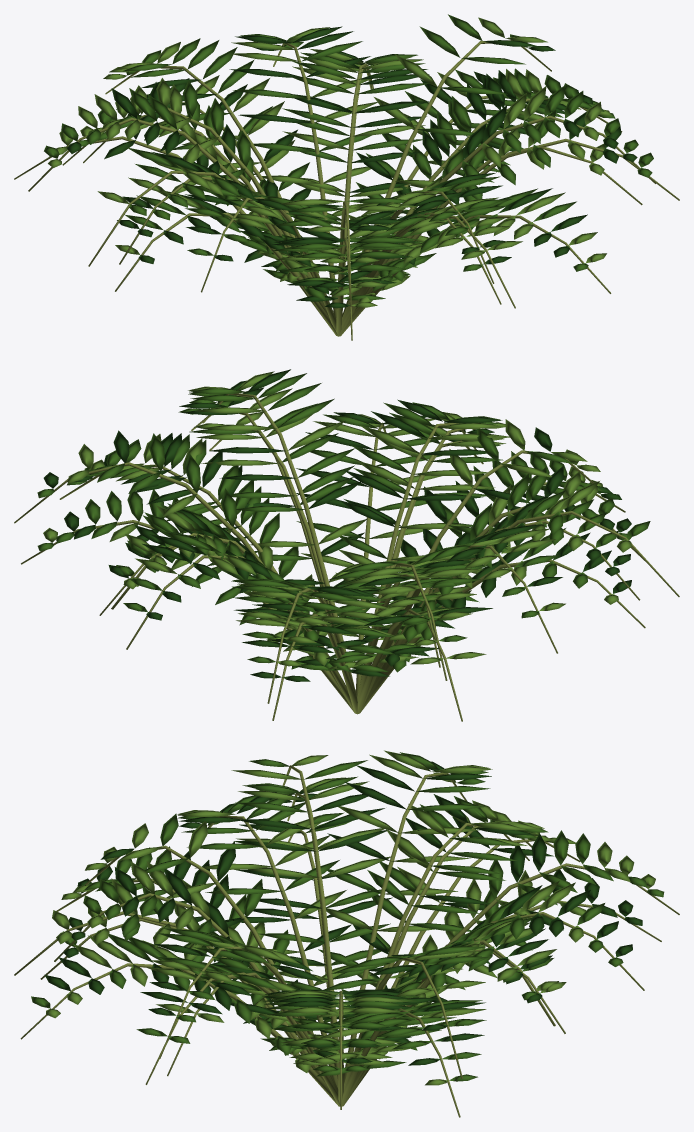
Rendered from MV_Fern_Clump.fbx.
3 views of the same model, one above another, from view 1: azimuth 30°, elevation 25°; view 2: azimuth 150°, elevation 25°; view 3: azimuth 270°, elevation 25° (orthographic). The views are drawn at different scales.
Visible parts, largest first — view 1: LOD0_Mesh, LOD1_Mesh, LOD2_Mesh; view 2: LOD0_Mesh, LOD1_Mesh, LOD2_Mesh; view 3: LOD0_Mesh, LOD1_Mesh, LOD2_Mesh.
Part boxes in pixels (left/top/right/bottom): LOD0_Mesh: left=28, top=26, right=655, bottom=340; LOD1_Mesh: left=83, top=14, right=679, bottom=335; LOD2_Mesh: left=14, top=56, right=642, bottom=334; LOD0_Mesh: left=21, top=369, right=645, bottom=713; LOD1_Mesh: left=14, top=387, right=645, bottom=720; LOD2_Mesh: left=85, top=411, right=679, bottom=721; LOD0_Mesh: left=20, top=750, right=679, bottom=1117; LOD1_Mesh: left=40, top=794, right=661, bottom=1105; LOD2_Mesh: left=14, top=755, right=580, bottom=1093.
Bounding box in the file's own units: 1.43 × 0.5665 × 1.37.
